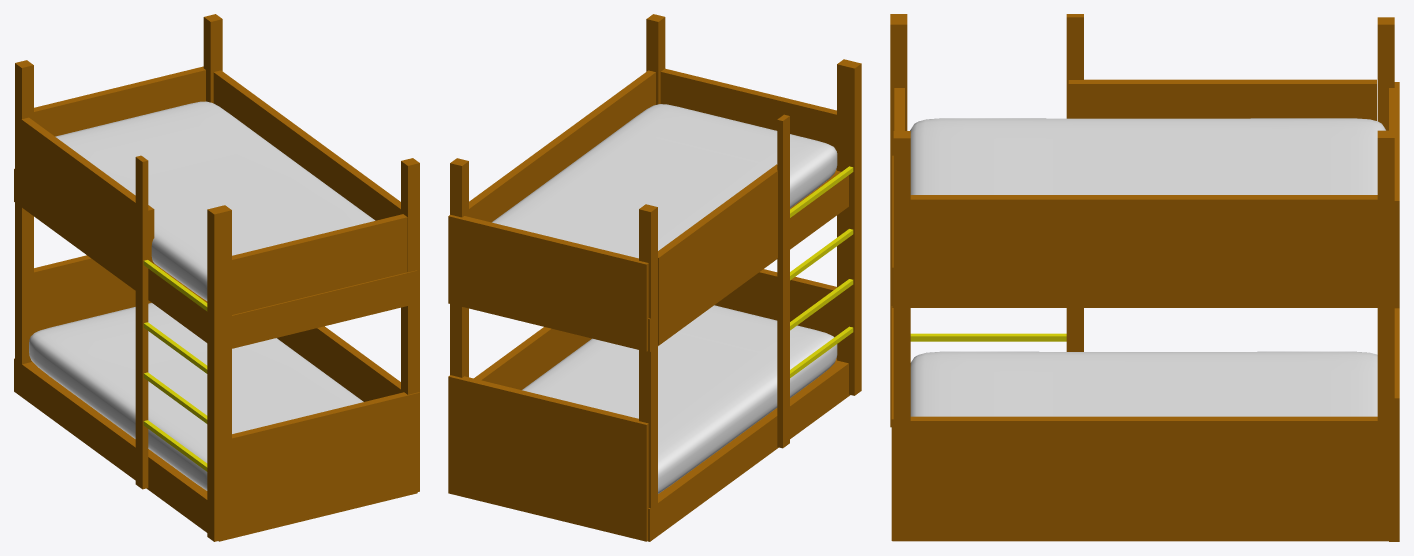
File: Double Deck Bed.fbx
3 views of the same model, side by side, from view 1: azimuth 30°, elevation 25°; view 2: azimuth 150°, elevation 25°; view 3: azimuth 270°, elevation 25° (orthographic). The views are drawn at different scales.
Visible parts, largest first — view 1: Cube.005, Cube.001, Cube.003, Cube.013, Cube.011, Cube.006, Cube.002, Cube.012, Cube.010, Cube, Cube.004, Cube.016 (+9 smaller); view 2: Cube.005, Cube, Cube.001, Cube.010, Cube.013, Cube.002, Cube.012, Cube.011, Cube.004, Cube.016, Cube.015, Cube.003 (+9 smaller); view 3: Cube.020, Cube.012, Cube.005, Cube.001, Cube.013, Cube.007, Cube.008, Cube.002, Cube.009, Cube.016, Cube.004, Cube.010 (+4 smaller).
Part boxes in pixels (x1,y1,x2,y2): Cube.005: (55,101,375,300); Cube.001: (29,303,363,490); Cube.003: (232,392,419,537); Cube.013: (21,117,154,289); Cube.011: (232,214,407,314); Cube.006: (14,168,417,348); Cube.002: (14,358,417,541); Cube.012: (213,70,400,220); Cube.010: (34,66,205,136); Cube: (34,255,151,332); Cube.004: (15,60,33,395); Cube.016: (135,155,148,489); Cube.005: (492,104,837,258); Cube: (448,375,648,541); Cube.001: (522,305,837,493); Cube.010: (448,214,648,351); Cube.013: (658,164,777,344); Cube.002: (648,358,850,541); Cube.012: (469,70,655,222); Cube.011: (660,68,836,169); Cube.004: (639,204,657,538); Cube.016: (777,114,789,448); Cube.015: (849,62,861,395); Cube.003: (714,269,836,358); Cube.020: (910,416,1377,528); Cube.012: (910,195,1377,306); Cube.005: (910,118,1385,194); Cube.001: (910,351,1377,416); Cube.013: (1068,79,1376,120); Cube.007: (1377,130,1394,540); Cube.008: (893,131,910,540); Cube.002: (892,528,1388,541); Cube.009: (890,17,907,427); Cube.016: (1066,14,1083,351); Cube.004: (1377,17,1394,130); Cube.010: (1389,82,1399,308).
Size of what is drawn, in the model's own units: 344 by 523 by 597.
